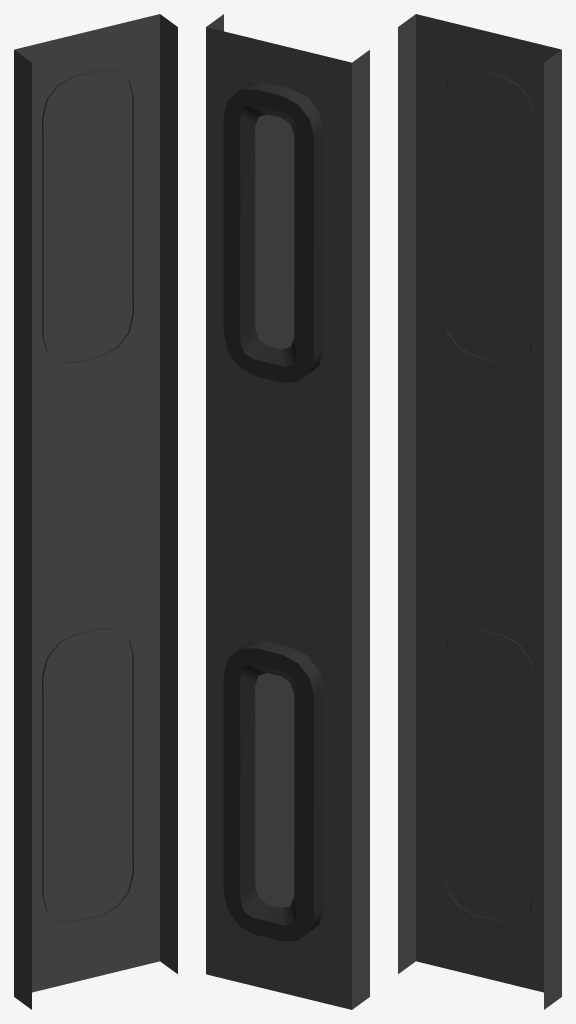
The model's file is SM_cable_simple_09.fbx.
The picture shows the model from 3 angles, left to right: view 1: azimuth 30°, elevation 25°; view 2: azimuth 150°, elevation 25°; view 3: azimuth 330°, elevation 25°; orthographic projection.
Parts seen in each view (by area): view 1: SM_cable_simple_08; view 2: SM_cable_simple_08; view 3: SM_cable_simple_08.
Boxes of the visible parts, <box> form: SM_cable_simple_08: <box>14,14,177,1009</box>; SM_cable_simple_08: <box>206,14,369,1009</box>; SM_cable_simple_08: <box>398,14,561,1009</box>.
Size of the model in its own units: 48.37 by 300 by 15.79.
2 materials, 2 textured.
